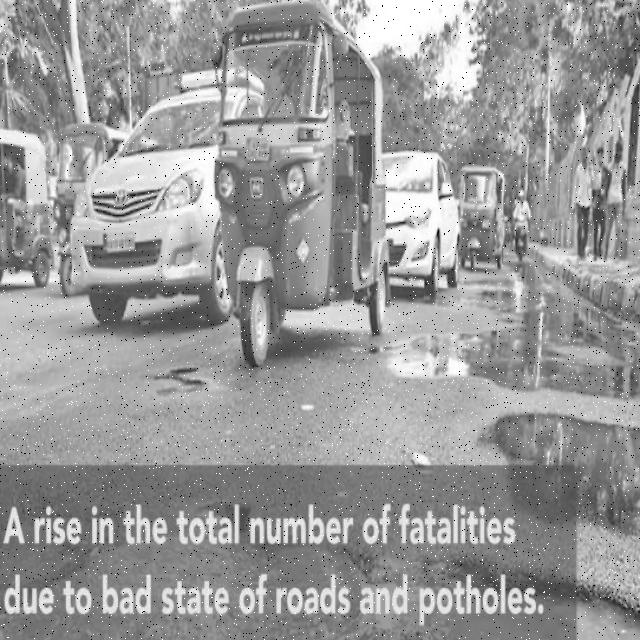pothole: (492, 416, 640, 535), (448, 573, 640, 640), (151, 363, 208, 397)
